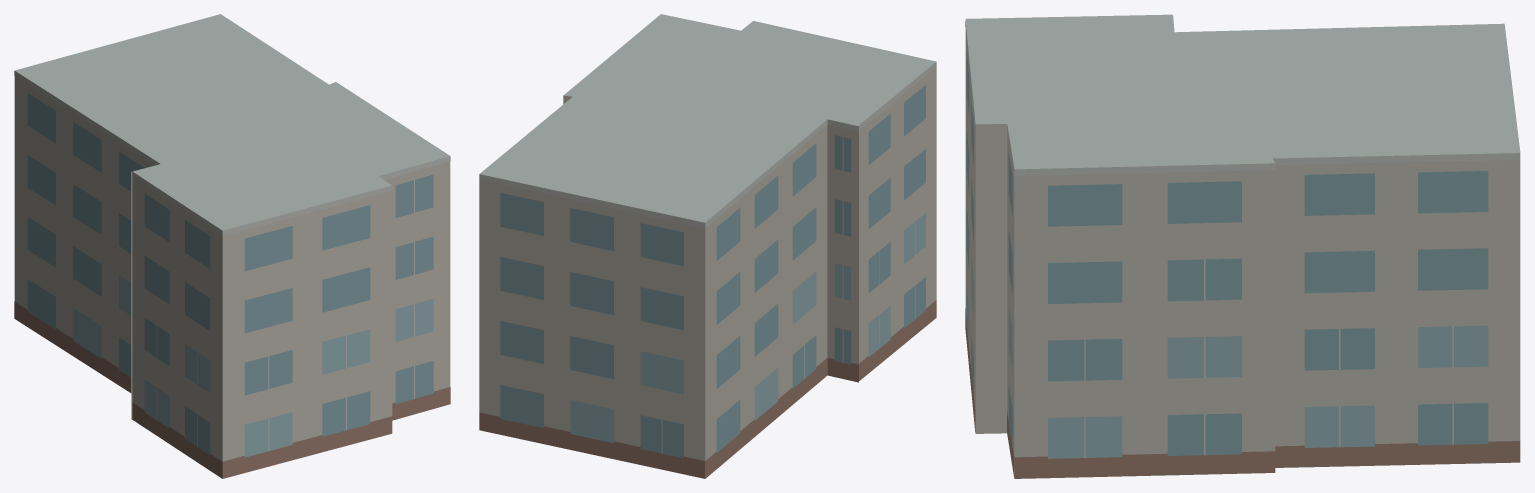
The model's file is survey-upis-33030946.glb.
3 renders of one model, left to right at view 1: azimuth 30°, elevation 25°; view 2: azimuth 150°, elevation 25°; view 3: azimuth 270°, elevation 25°, orthographic. The views are drawn at different scales.
Visible parts, largest first — view 1: survey-upis-33030946.tmp; view 2: survey-upis-33030946.tmp; view 3: survey-upis-33030946.tmp.
Boxes of the visible parts, <box> form: survey-upis-33030946.tmp: <box>14,14,450,478</box>; survey-upis-33030946.tmp: <box>479,14,936,478</box>; survey-upis-33030946.tmp: <box>965,14,1520,478</box>.
Size of the model in its own units: 12.12 by 11.25 by 18.29.
